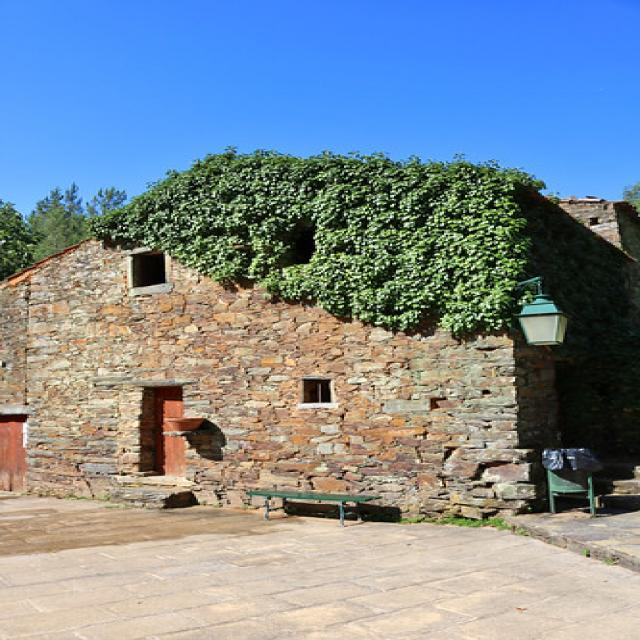Normal_building: (2, 145, 640, 522)
